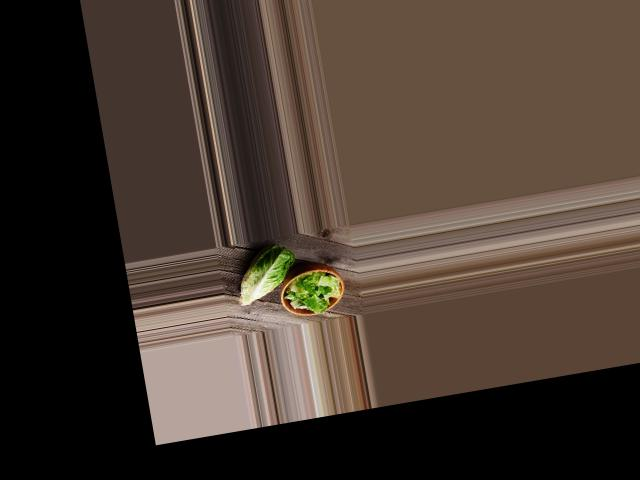lettuce: (232, 240, 300, 306)
